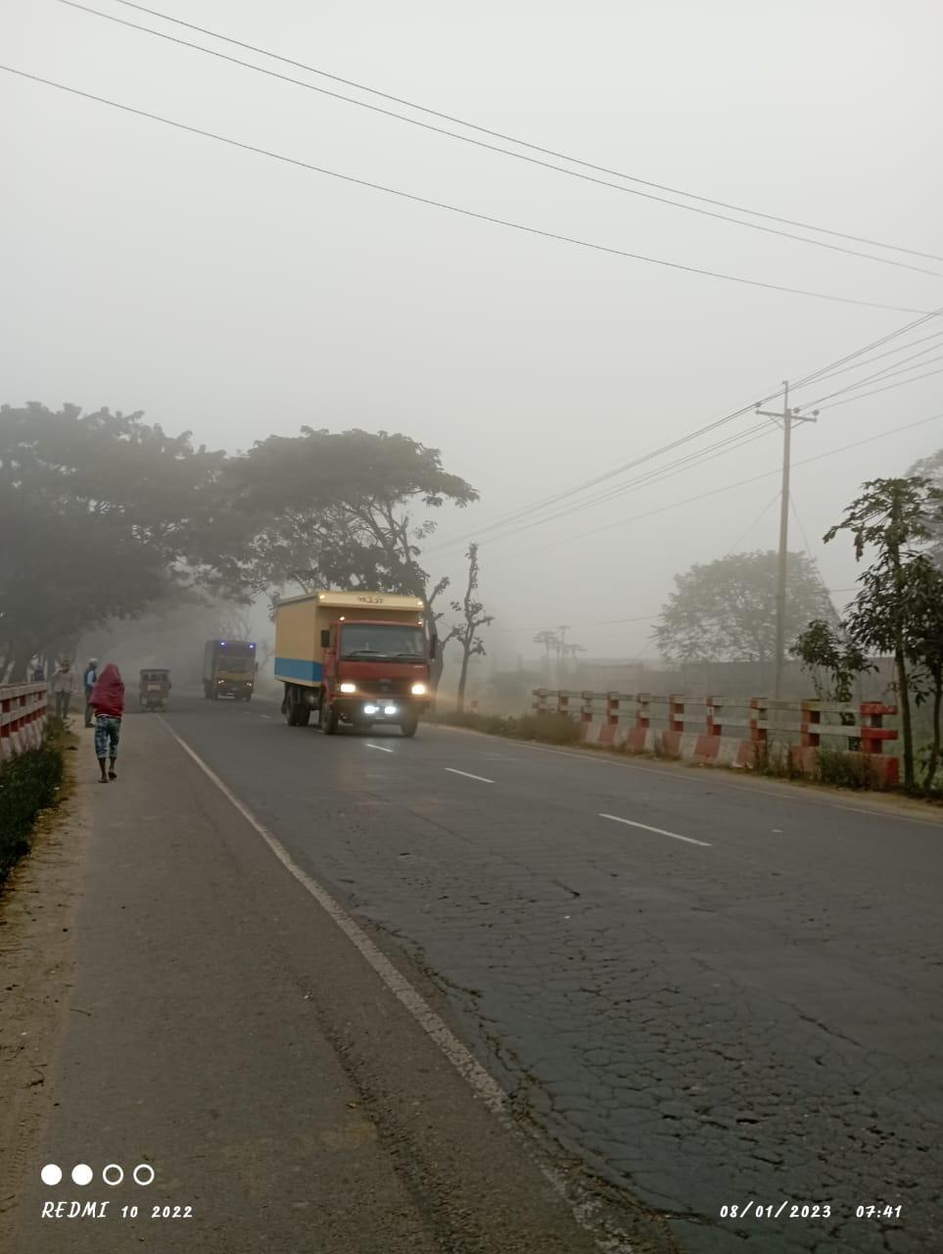Car: (133, 661, 174, 718)
Truck: (267, 573, 450, 748), (192, 630, 260, 704)
